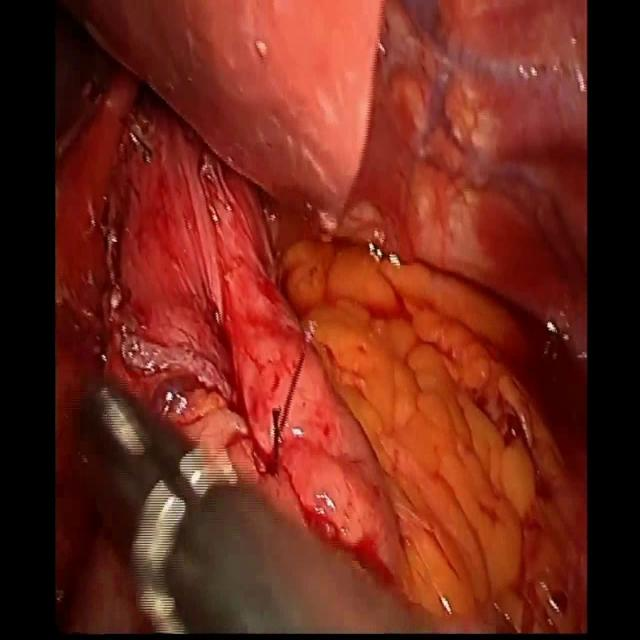surgical-area: (55, 0, 586, 634)
surgical-tool: (72, 381, 425, 634)
